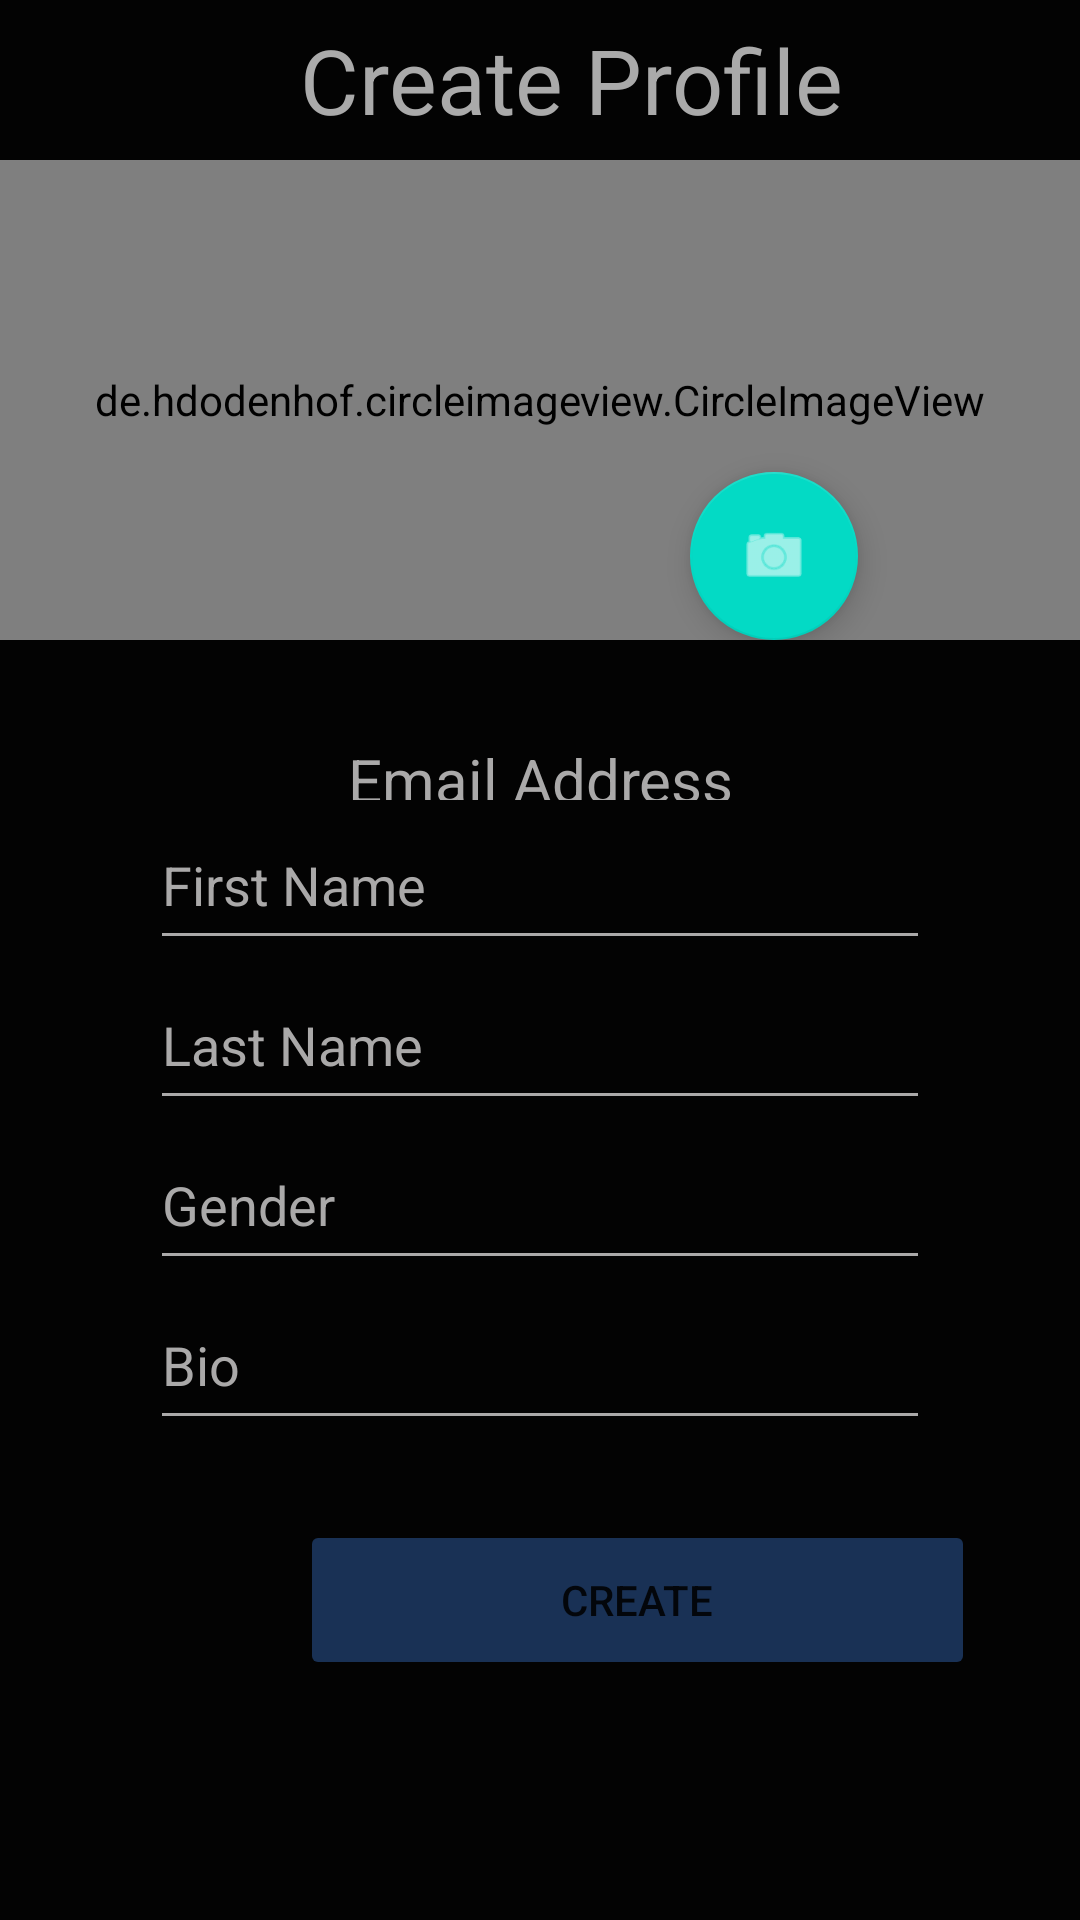

Named icons in this screenshot (1080x1920) and their bounding boxes, detection(x1, y1, x2, y2):
camera: detection(690, 472, 858, 640)
